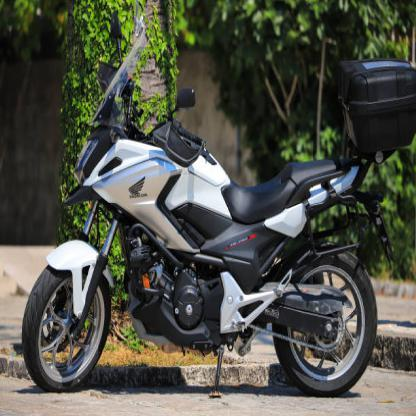Motorcycle: (20, 40, 415, 397)
